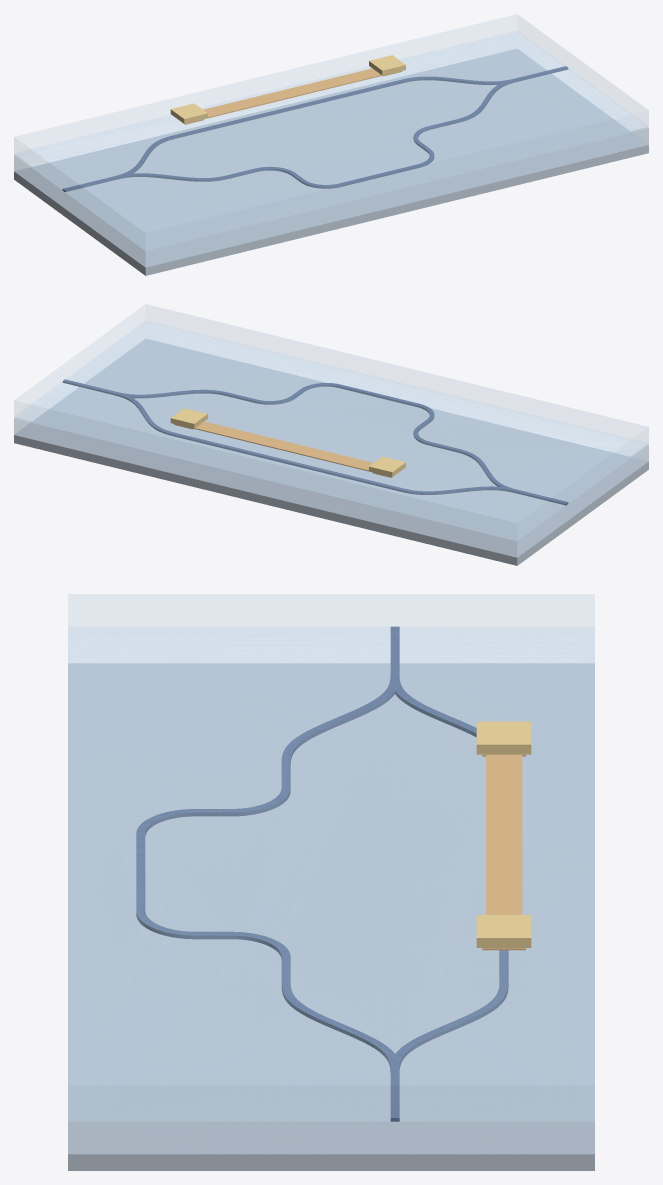
Rendered from stack-mzi.glb.
3 views of the same model, one above another, from view 1: azimuth 30°, elevation 25°; view 2: azimuth 150°, elevation 25°; view 3: azimuth 270°, elevation 25° (orthographic). The views are drawn at different scales.
Visible parts, largest first — view 1: cladd, sisub, box, siwg, tin18, metal1; view 2: cladd, sisub, box, siwg, tin18, metal1; view 3: cladd, sisub, box, siwg, tin18, metal1.
Boxes of the visible parts, x1=… form: cladd: x1=14, y1=14, x2=648, y2=250; sisub: x1=14, y1=49, x2=648, y2=275; box: x1=14, y1=33, x2=648, y2=267; siwg: x1=62, y1=66, x2=568, y2=192; tin18: x1=184, y1=68, x2=402, y2=124; metal1: x1=170, y1=55, x2=405, y2=123; cladd: x1=14, y1=304, x2=648, y2=540; sisub: x1=14, y1=339, x2=648, y2=565; box: x1=14, y1=323, x2=648, y2=557; siwg: x1=62, y1=379, x2=568, y2=505; tin18: x1=174, y1=421, x2=391, y2=477; metal1: x1=170, y1=408, x2=405, y2=476; cladd: x1=68, y1=594, x2=594, y2=1120; sisub: x1=68, y1=663, x2=594, y2=1170; box: x1=68, y1=631, x2=594, y2=1154; siwg: x1=136, y1=626, x2=508, y2=1121; tin18: x1=482, y1=754, x2=525, y2=950; metal1: x1=476, y1=721, x2=531, y2=947.
Bounding box in the file's own units: 64 × 5.8 × 29.
